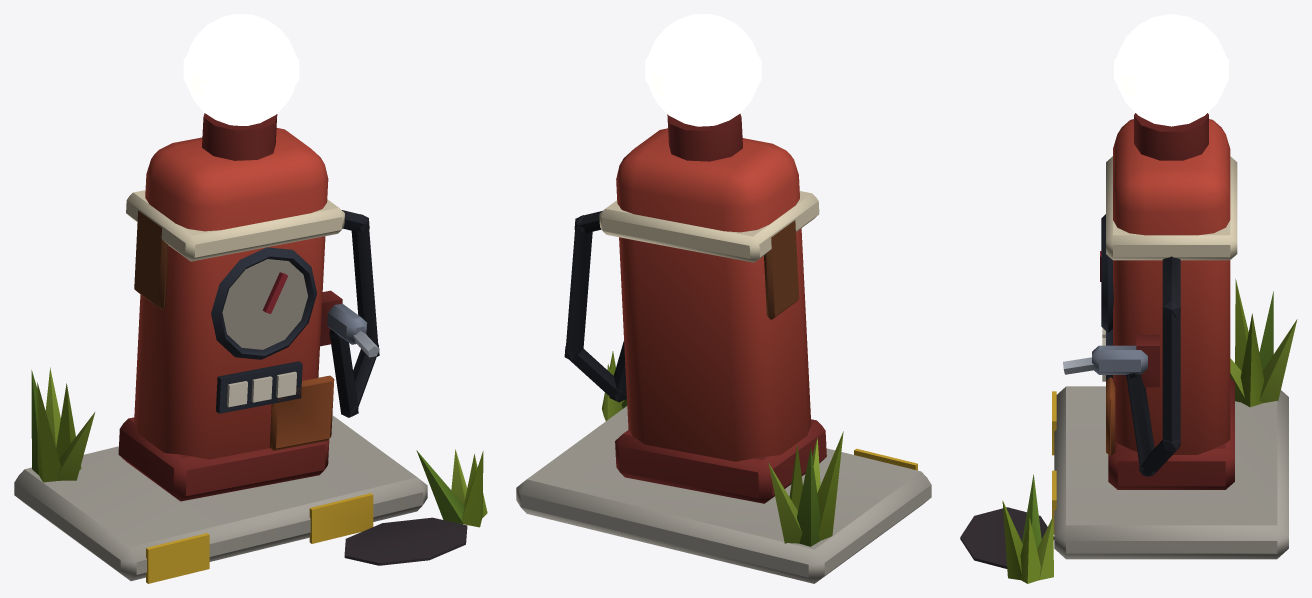
The model's file is n_pump.glb.
The picture shows the model from 3 angles, left to right: view 1: azimuth 30°, elevation 25°; view 2: azimuth 150°, elevation 25°; view 3: azimuth 270°, elevation 25°; orthographic projection.
Visible parts, largest first — view 1: body, globe_glow; view 2: body, globe_glow; view 3: body, globe_glow.
Boxes of the visible parts, box(x1,y1,x2,y2) form: body: box(14, 113, 487, 583); globe_glow: box(183, 14, 299, 125); body: box(516, 113, 931, 583); globe_glow: box(645, 14, 761, 126); body: box(960, 113, 1297, 583); globe_glow: box(1114, 14, 1228, 126).
Bounding box in the file's own units: 1.7 × 2.29 × 1.44.
